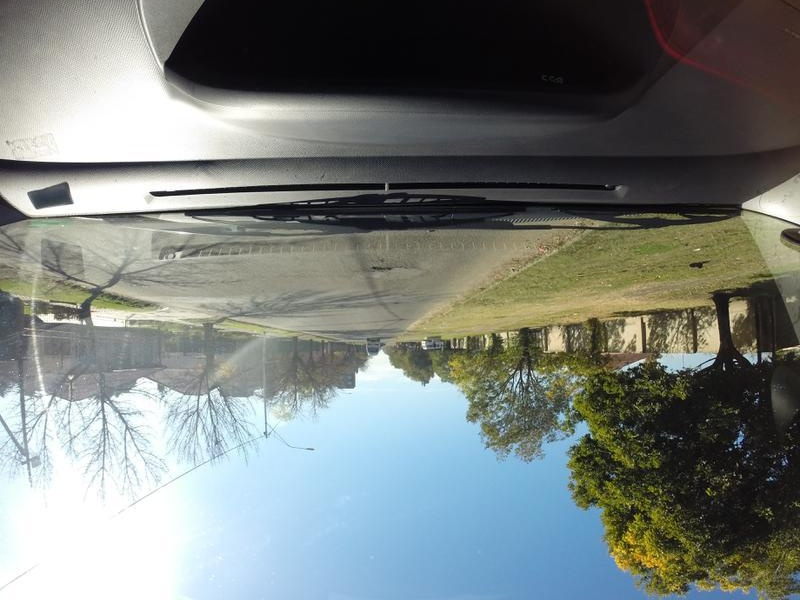pothole: (366, 263, 401, 271)
